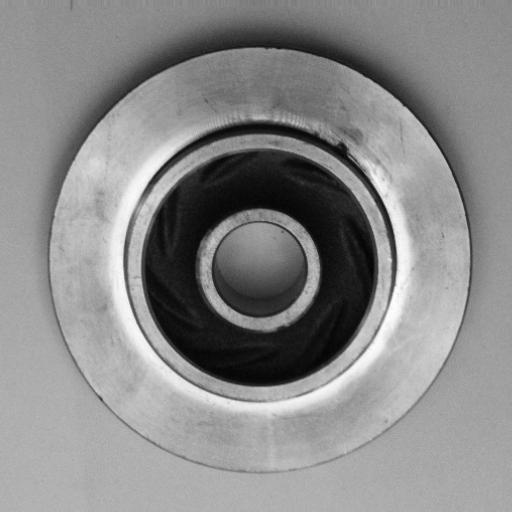crack: (332, 135, 358, 167)
unpolished_casting: (45, 41, 473, 478)
